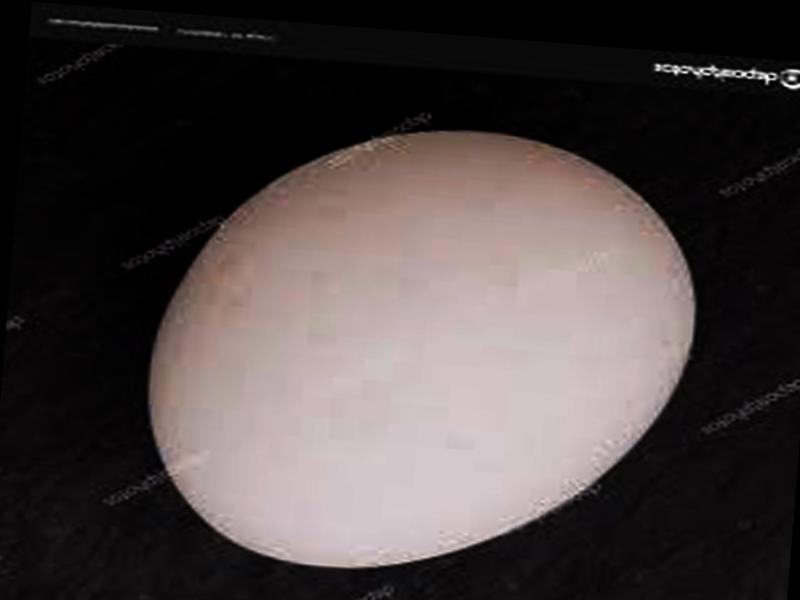Eggs: (135, 105, 708, 590)
